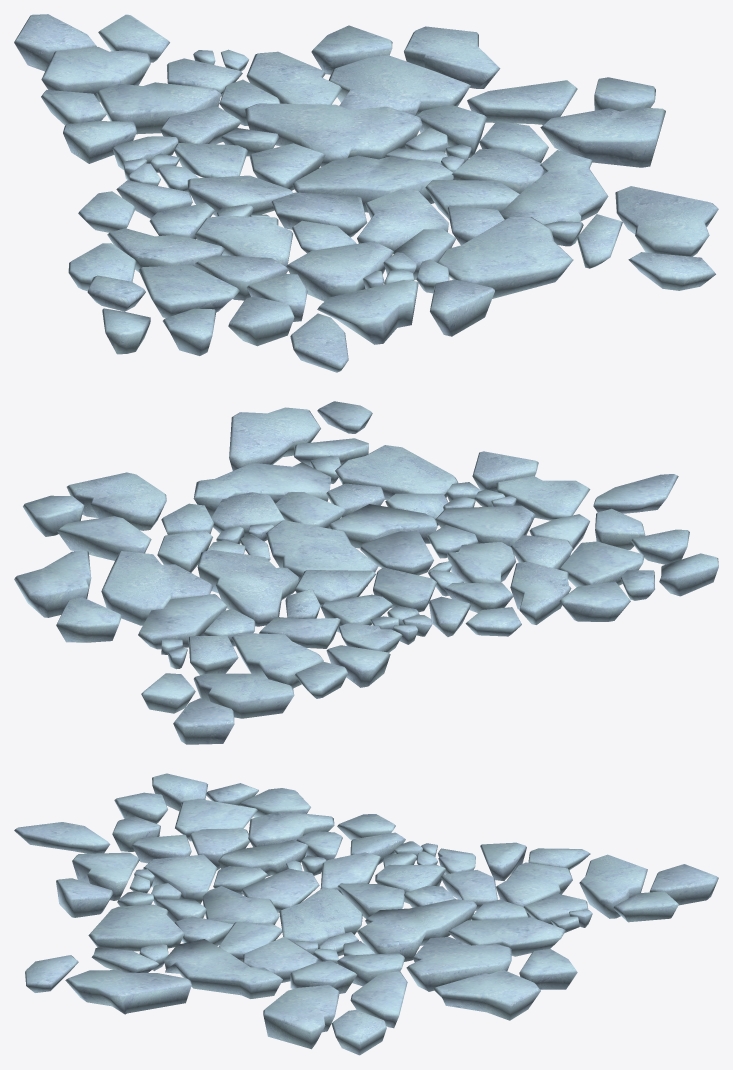
File: tesv_icefloessolid02-transformed.glb
3 renders of one model, top to bottom at view 1: azimuth 30°, elevation 25°; view 2: azimuth 150°, elevation 25°; view 3: azimuth 270°, elevation 25°, orthographic. The views are drawn at different scales.
Parts seen in each view (by area): view 1: icefloessolid02; view 2: icefloessolid02; view 3: icefloessolid02.
Part boxes in pixels (box(x1,y1,x2,y2)): icefloessolid02: box(14, 14, 718, 372); icefloessolid02: box(14, 401, 718, 744); icefloessolid02: box(14, 773, 718, 1055).
Bounding box in the file's own units: 27.77 × 1.77 × 31.28.
Materials: 1 (1 with a texture image).
